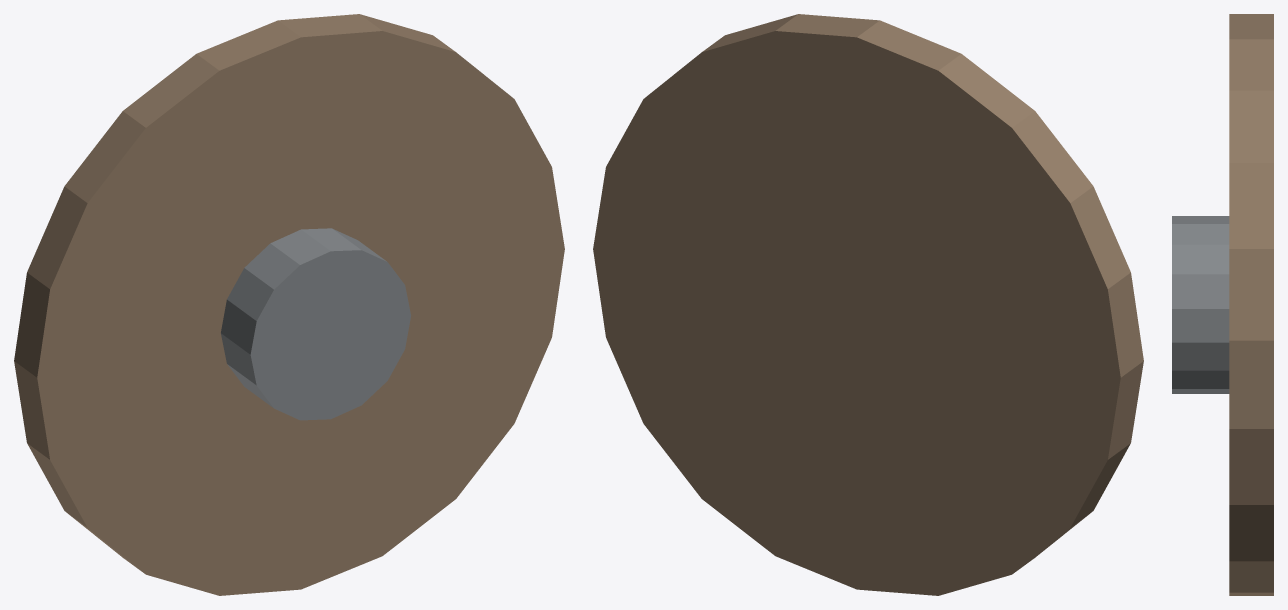
File: SM_RoundShield.glb
The picture shows the model from 3 angles, left to right: view 1: azimuth 30°, elevation 25°; view 2: azimuth 150°, elevation 25°; view 3: azimuth 270°, elevation 25°; orthographic projection. The views are drawn at different scales.
Visible parts, largest first — view 1: SM_RoundShield_part00, SM_RoundShield_part01; view 2: SM_RoundShield_part00; view 3: SM_RoundShield_part00, SM_RoundShield_part01.
Part boxes in pixels (bbox=[...]): SM_RoundShield_part00: bbox=[14, 14, 564, 595]; SM_RoundShield_part01: bbox=[221, 228, 410, 420]; SM_RoundShield_part00: bbox=[593, 14, 1143, 595]; SM_RoundShield_part00: bbox=[1229, 14, 1273, 595]; SM_RoundShield_part01: bbox=[1172, 216, 1229, 393].
Size of the model in its own units: 0.92 by 0.92 by 0.16.
